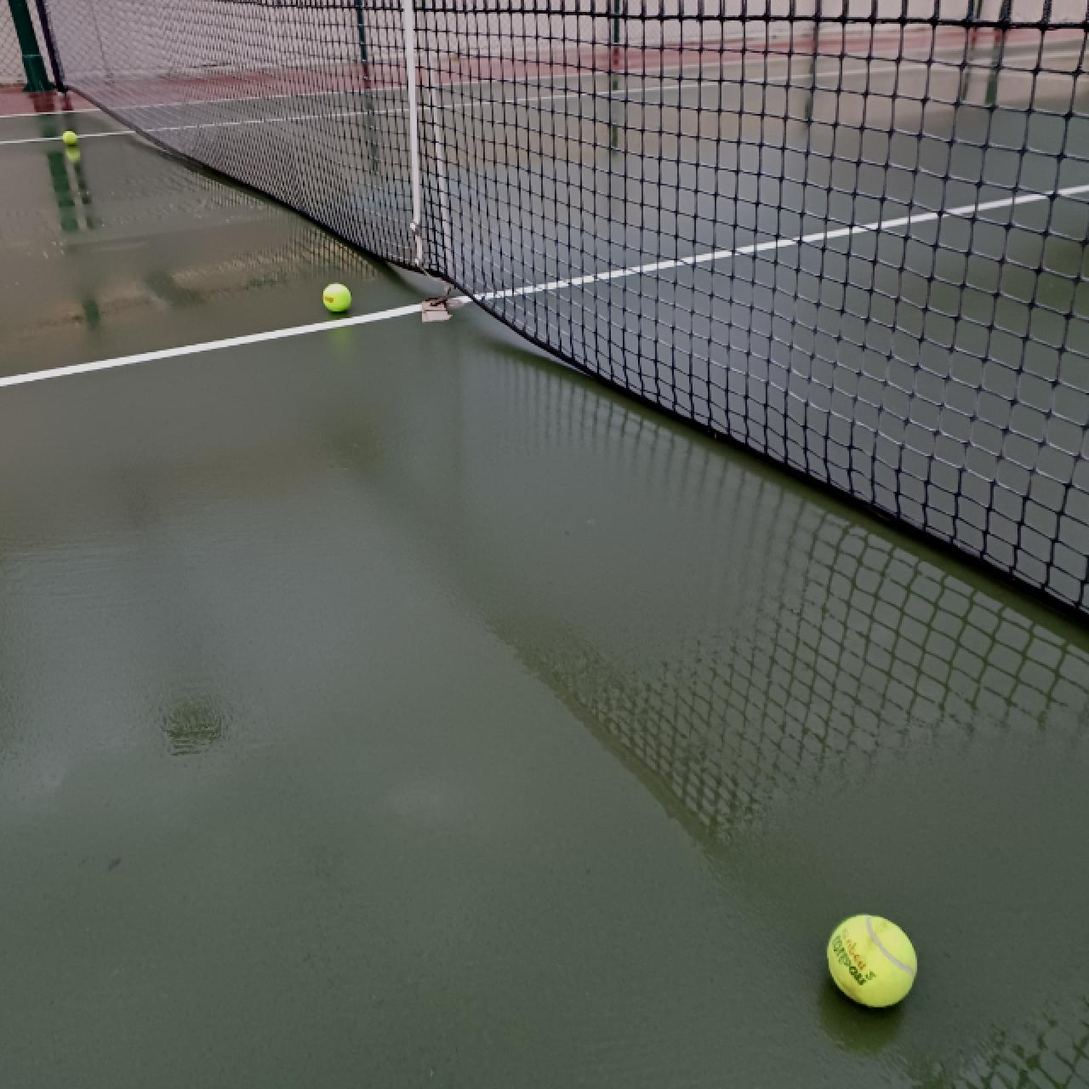tennis-ball: (825, 913, 920, 1010), (322, 282, 353, 314), (63, 129, 78, 145)
